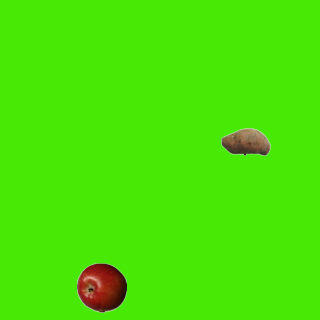Apple Braeburn: (76, 262, 126, 312)
Potato Sweet: (220, 116, 270, 166)
